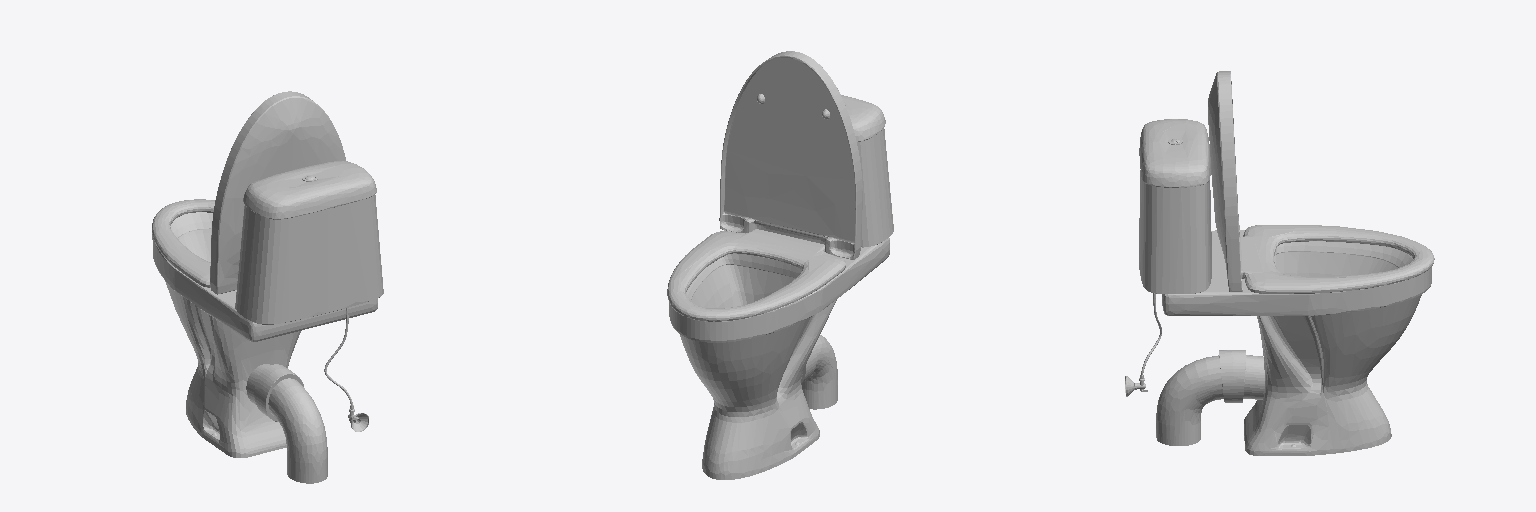
The picture shows the model from 3 angles: view 1: azimuth 30°, elevation 25°; view 2: azimuth 150°, elevation 25°; view 3: azimuth 270°, elevation 25°; orthographic projection.
Visible parts, largest first — view 1: Bowl; view 2: Bowl; view 3: Bowl.
Boxes of the visible parts, box(x1,y1,x2,y2) form: Bowl: box(152, 91, 383, 483); Bowl: box(667, 51, 893, 479); Bowl: box(1125, 71, 1434, 455).
Bounding box in the file's own units: 0.536 × 1.37 × 1.05.